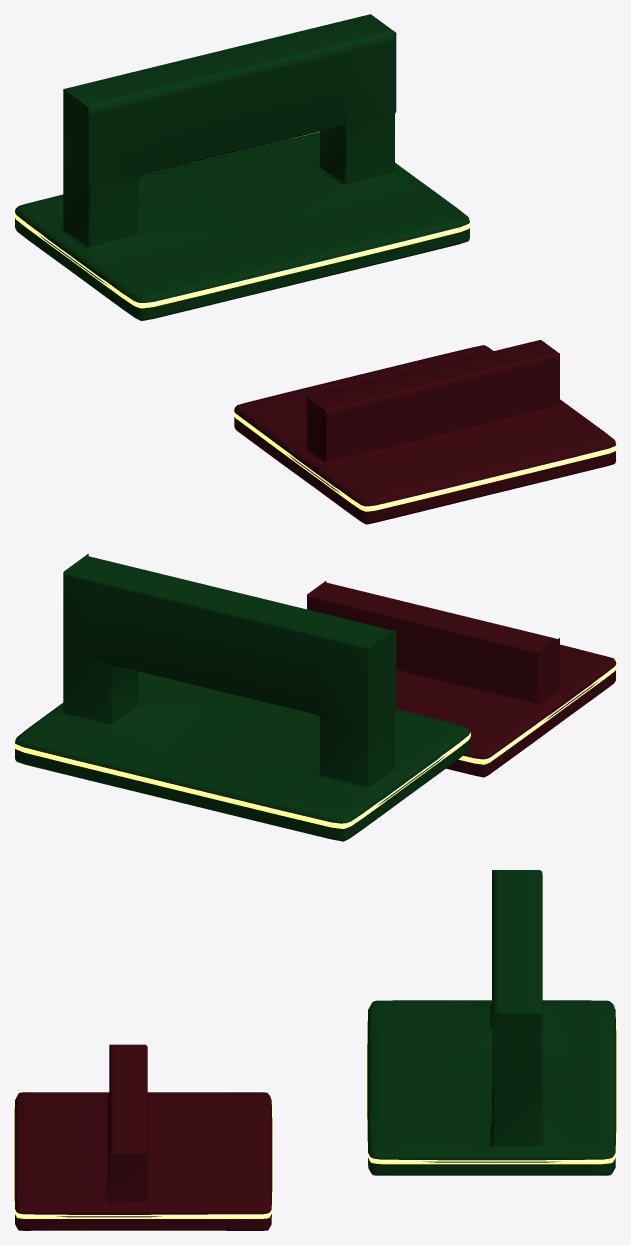
The model's file is obstacles.fbx.
3 views of the same model, one above another, from view 1: azimuth 30°, elevation 25°; view 2: azimuth 150°, elevation 25°; view 3: azimuth 270°, elevation 25° (orthographic). The views are drawn at different scales.
Visible parts, largest first — view 1: Platform M.002, Platform S.001; view 2: Platform M.002, Platform S.001; view 3: Platform M.002, Platform S.001.
Part boxes in pixels (x1,y1,x2,y2): Platform M.002: (14, 14, 470, 320); Platform S.001: (233, 340, 616, 524); Platform M.002: (14, 553, 470, 841); Platform S.001: (307, 581, 616, 777); Platform M.002: (366, 870, 616, 1175); Platform S.001: (14, 1044, 272, 1230).
Bounding box in the file's own units: 650 × 445 × 1051.
